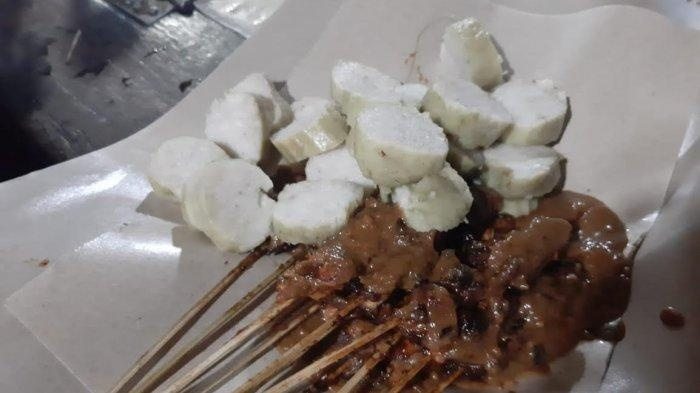sate_madura: (237, 194, 646, 393)
